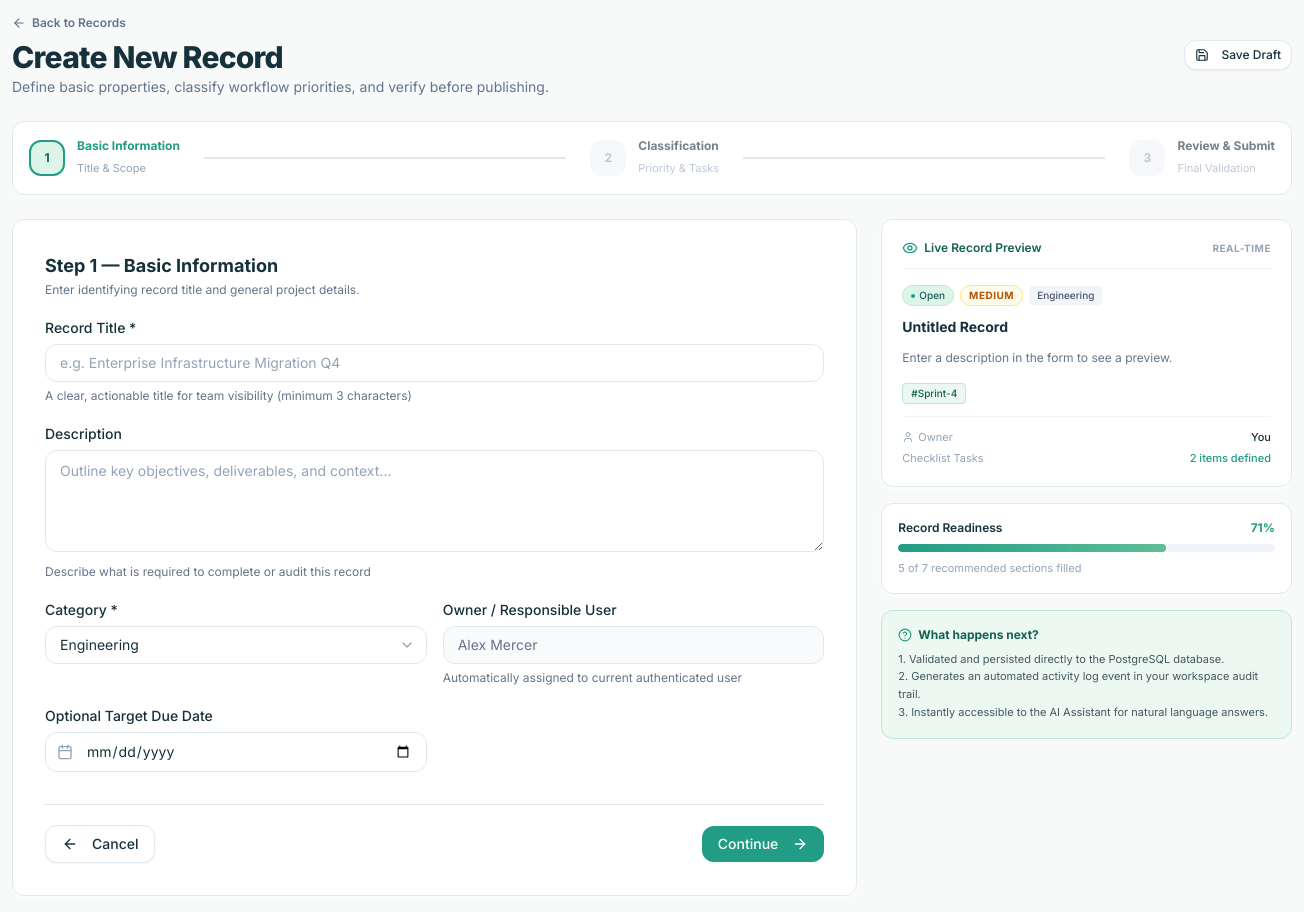
CreateRecordPage Component › advances to Step 2 when valid title is entered and Continue is clicked
The image size is (1304, 912).
Type "Migrate Payment Gateway to Stripe" into the field labelled "Record Title *" at (435, 363), box top-left (45, 344), bottom-right (824, 382)
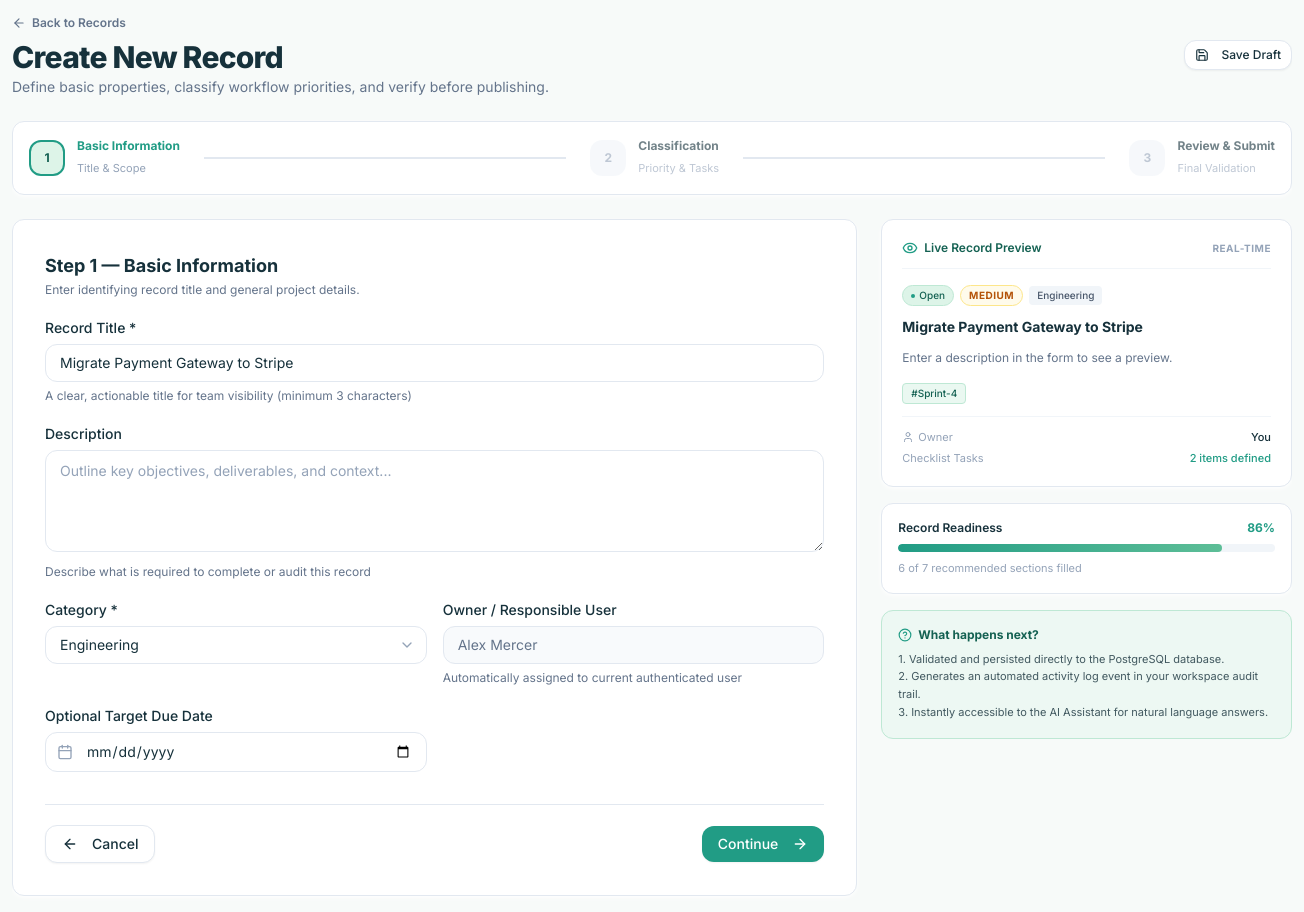
Click the button "Continue" at (763, 844), box top-left (702, 826), bottom-right (824, 862)
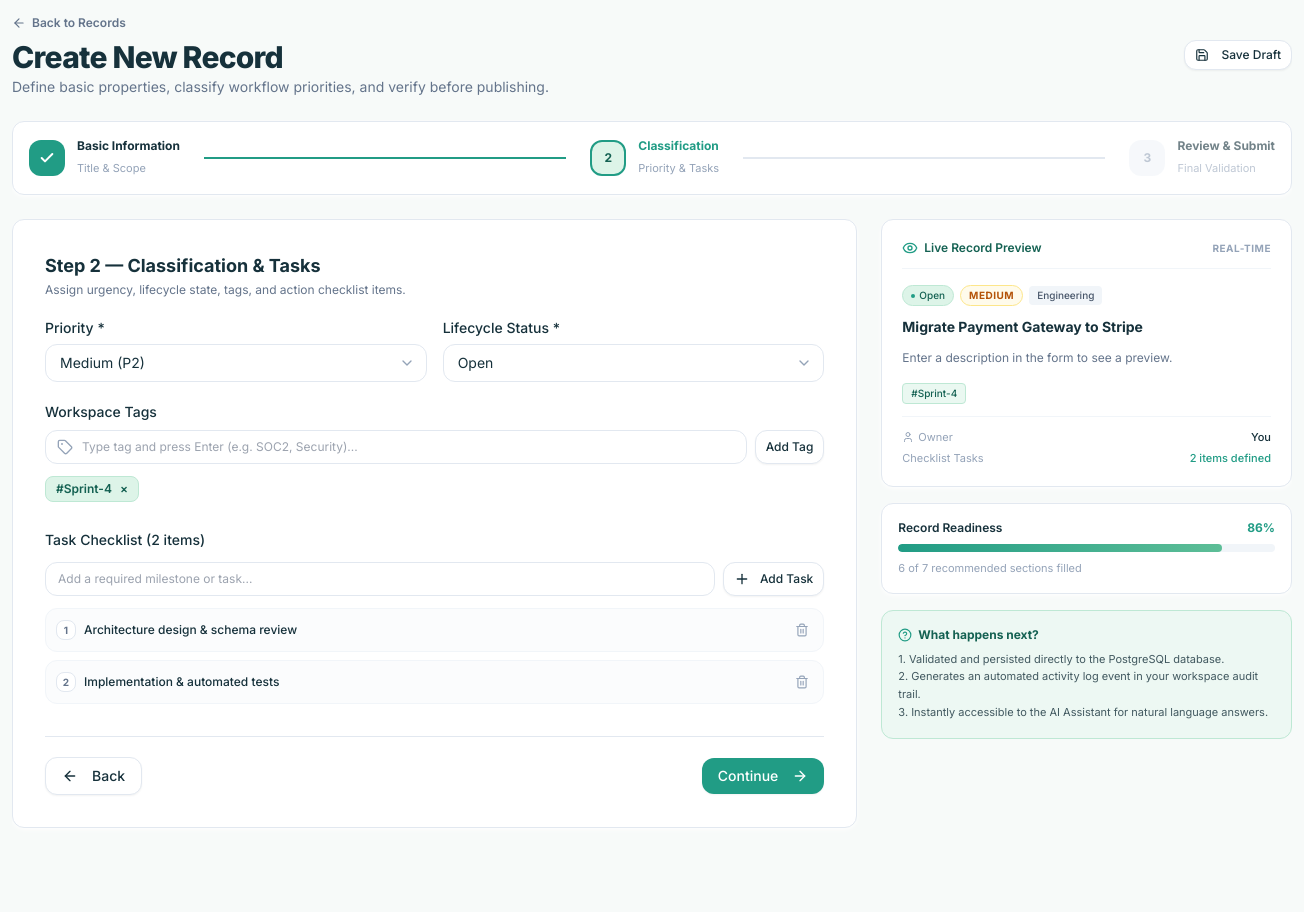
Check: the heading "Step 2 — Classification & Tasks" is shown, box top-left (45, 255), bottom-right (321, 276)
Check: the dropdown labelled "Priority *" is shown, box top-left (45, 344), bottom-right (427, 382)
Check: the dropdown labelled "Lifecycle Status *" is shown, box top-left (443, 344), bottom-right (824, 382)
